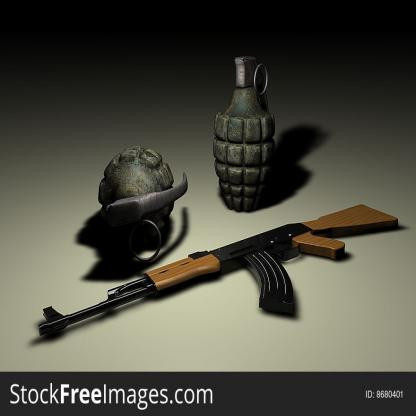Grenade: (98, 146, 188, 263), (213, 54, 277, 213)
Gun: (38, 201, 400, 337)
